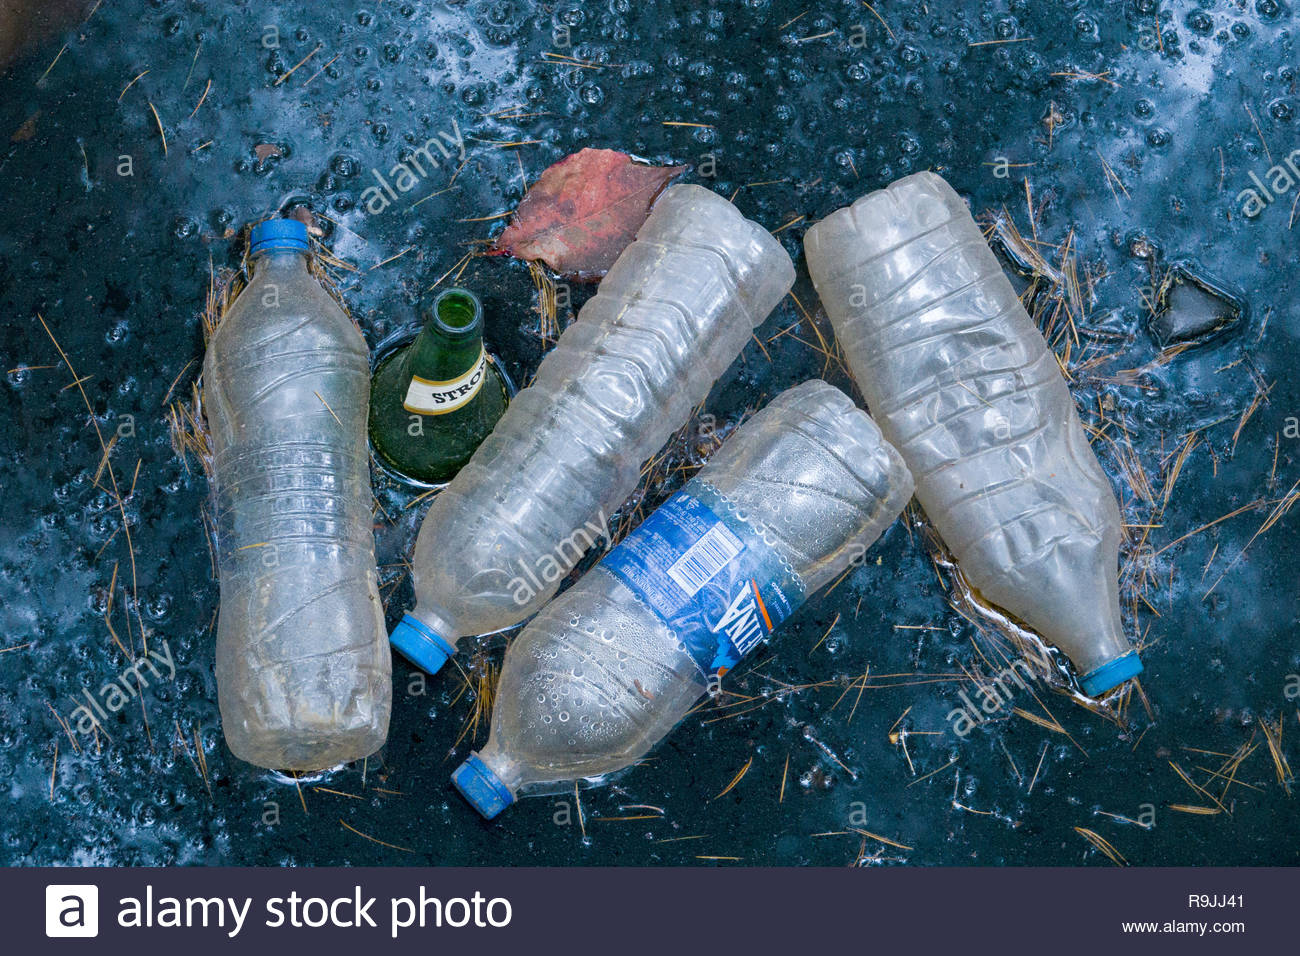bottle: (377, 280, 513, 488)
plastic_bottle: (449, 375, 918, 831), (370, 192, 787, 692), (803, 160, 1154, 709), (195, 203, 394, 784)
